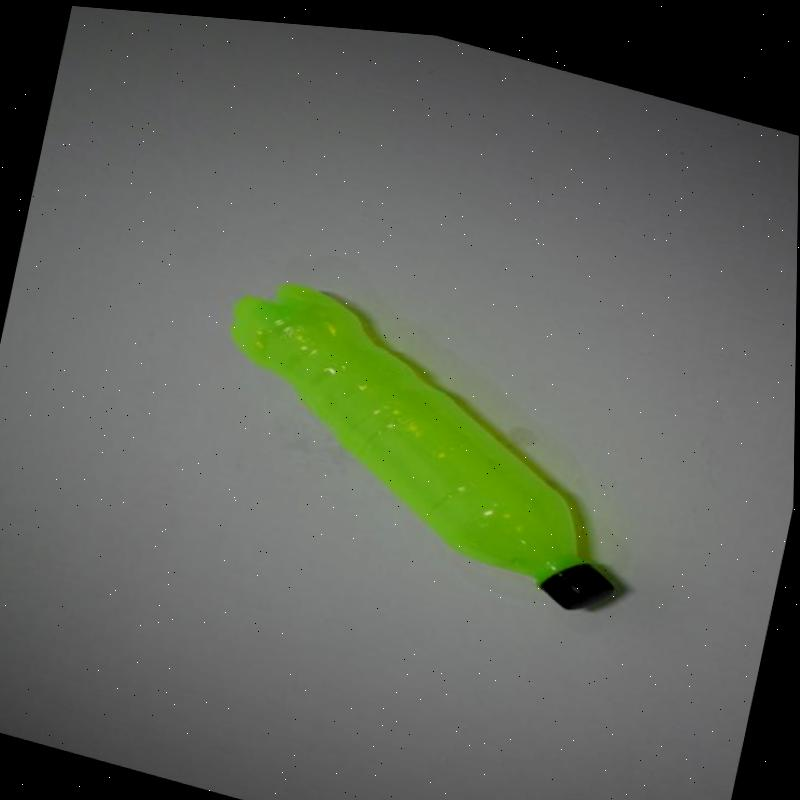botella: (189, 258, 658, 613)
